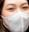with_mask: (2, 1, 29, 32)
